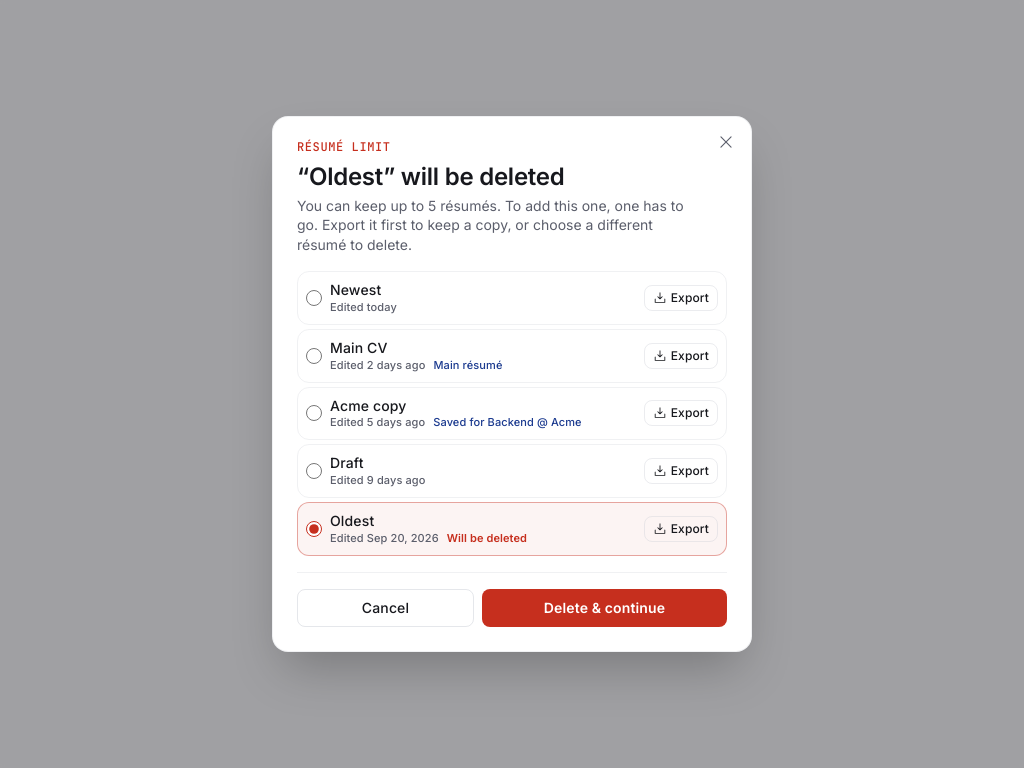
ResumeLimitModal › choosing another changes what will be deleted, and warns about a JD's résumé
Click the radio button labelled "Acme copy Edited 5 days ago Saved for Backend @ Acme". click: (314, 414)
box: [306,406,322,422]
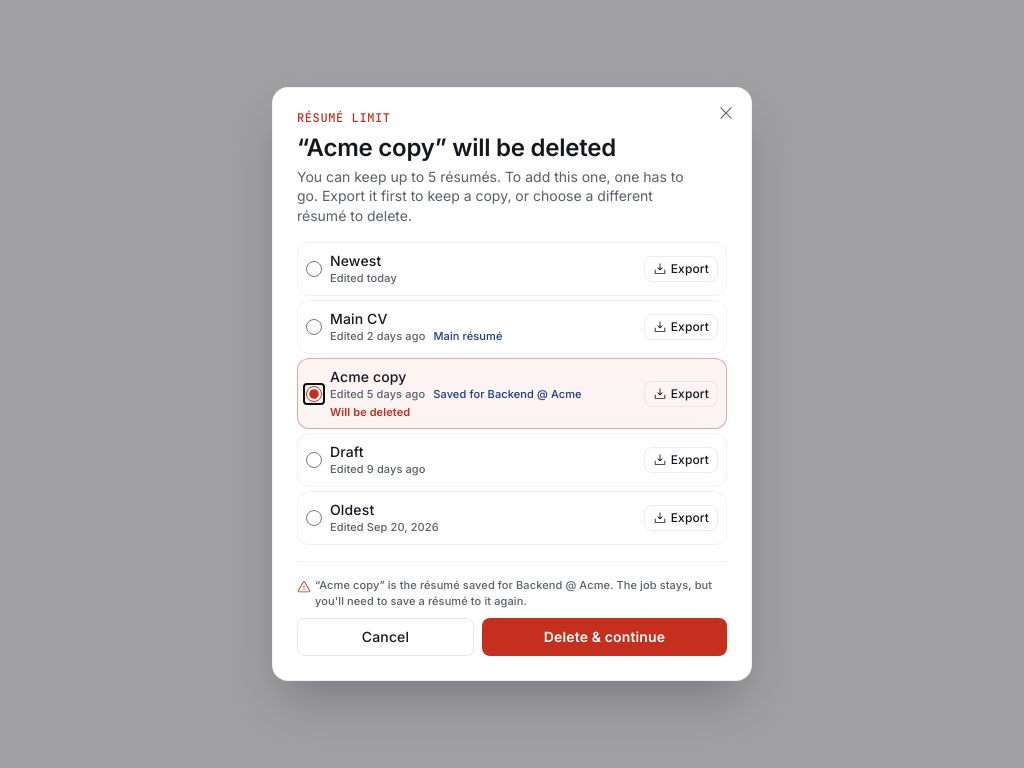
Now the heading "“Acme copy” will be deleted" is shown, box [297,133,616,162]
Now the text "the résumé saved for Backend @ Acme" is shown, box [315,578,712,608]
